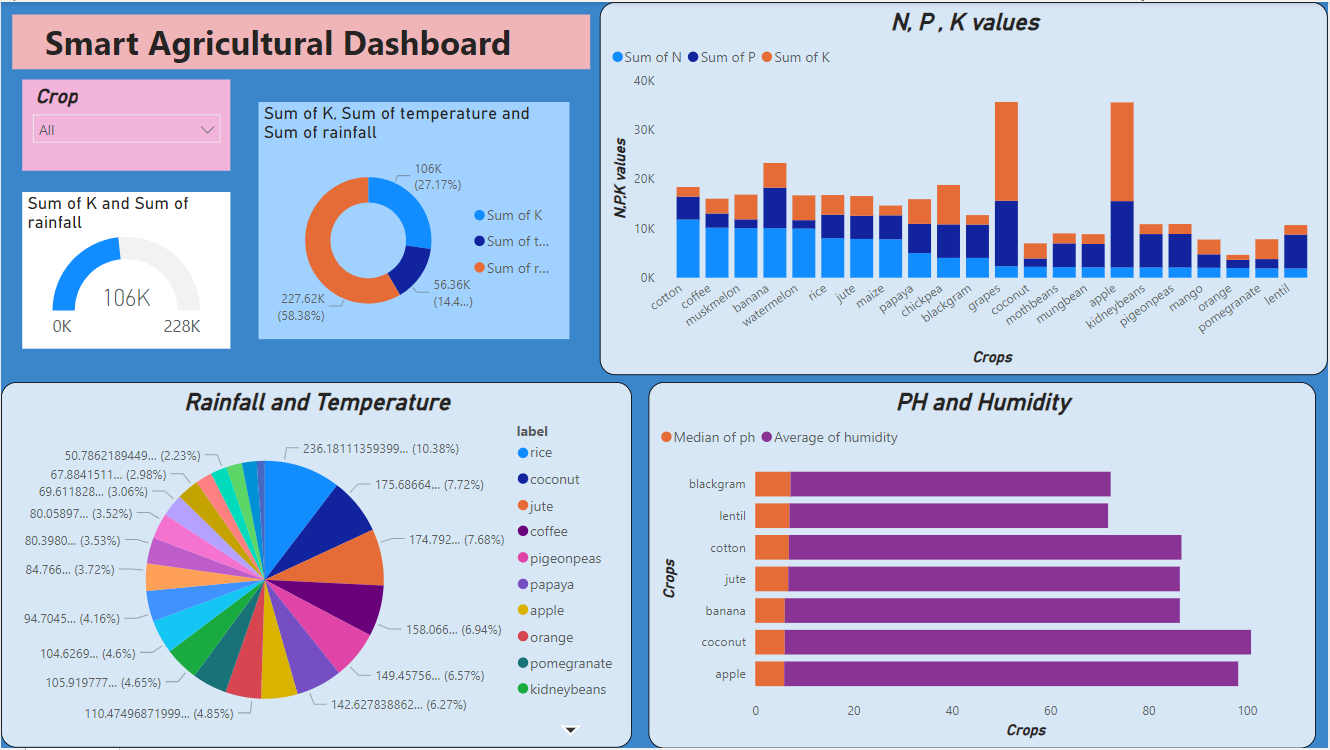

This screenshot's page, from the dashboard's own definition file:
{"tool":"powerbi","page":{"name":"Page 1","canvas":[1280,720],"ordinal":0},"visuals":[{"type":"textbox","box":[10.8,12.1,557.3,52.6],"z":0},{"type":"columnChart","title":" N, P , K values ","fields":{"Category":["Crop_recommendation.label"],"Y":["Sum(Crop_recommendation.N)","Sum(Crop_recommendation.P)","Sum(Crop_recommendation.K)"]},"box":[577.8,0,702.8,360.1],"z":1000},{"type":"pieChart","title":"Rainfall and Temperature","fields":{"Category":["Crop_recommendation.label"],"Y":["Avg(Crop_recommendation.rainfall)"]},"box":[0,367.1,608.6,352.9],"z":2000},{"type":"barChart","title":"PH and Humidity","fields":{"Category":["Crop_recommendation.label"],"Y":["Median(Crop_recommendation.ph)","Avg(Crop_recommendation.humidity)"]},"box":[624.8,366.8,643.6,353.4],"z":3000},{"type":"slicer","fields":{"Values":["Crop_recommendation.label"]},"box":[20.2,74.2,201.1,87.7],"z":4000},{"type":"donutChart","fields":{"Y":["Sum(Crop_recommendation.K)","Sum(Crop_recommendation.temperature)","Sum(Crop_recommendation.rainfall)"]},"box":[248.2,96,300.3,229],"z":5000},{"type":"gauge","fields":{"Y":["Sum(Crop_recommendation.K)"],"MaxValue":["Sum(Crop_recommendation.rainfall)"]},"box":[20.2,183.5,201.1,151.1],"z":5001}]}

Visuals, with their boxes in screenshot pixels (x1, y1, x2, y2), scaled from the page's 1280x720 canvas onto the 1330x750 screenshot:
textbox: 11,13,590,67
" N, P , K values " columnChart: 600,0,1329,375
"Rainfall and Temperature" pieChart: 0,382,632,749
"PH and Humidity" barChart: 649,382,1318,749
slicer - Crop_recommendation.label: 21,77,230,169
donutChart - Sum(Crop_recommendation.K) x Sum(Crop_recommendation.temperature): 258,100,570,339
gauge - Sum(Crop_recommendation.K) x Sum(Crop_recommendation.rainfall): 21,191,230,349
